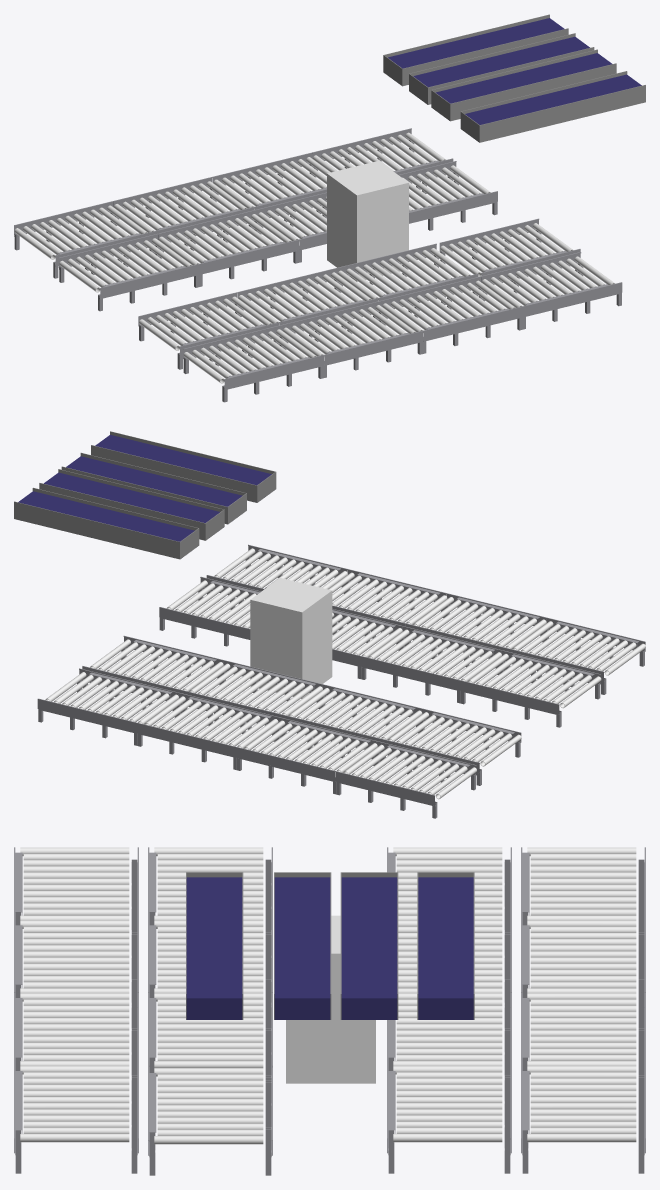
The model's file is cell_layout.glb.
The picture shows the model from 3 angles, top to bottom: view 1: azimuth 30°, elevation 25°; view 2: azimuth 150°, elevation 25°; view 3: azimuth 270°, elevation 25°; orthographic projection. The views are drawn at different scales.
Parts seen in each view (by area): view 1: Esteira1 (×4), Y-Bearing Cover (×14), Y-Bearing Cover004 (×7), Pedestal, ChapaFrontal.003 (×4), ChapaFrontal.001 (×4); view 2: Esteira1 (×4), Y-Bearing Cover (×7), Pedestal, ChapaFrontal.001 (×4), ChapaFrontal.003 (×4); view 3: Esteira1 (×4), New Roller (×12), New Roller008 (×12), New Roller 056 (×12), New Roller 040 (×12), New Roller 008 (×12), New Roller 048 (×12), New Roller 016 (×12), New Roller 064 (×12), New Roller 2 (×12), New Roller 072 (×12), New Roller 032 (×12) (+3 smaller).
Part boxes in pixels (box(x1,y1,x2,y2)): Esteira1 (×4): box(388, 18, 641, 124); Y-Bearing Cover (×14): box(14, 128, 581, 358); Y-Bearing Cover004 (×7): box(99, 191, 622, 390); Pedestal: box(327, 161, 408, 281); ChapaFrontal.003 (×4): box(402, 28, 645, 142); ChapaFrontal.001 (×4): box(383, 14, 627, 128); Esteira1 (×4): box(18, 434, 271, 541); Y-Bearing Cover (×7): box(37, 607, 559, 806); Pedestal: box(250, 578, 332, 698); ChapaFrontal.001 (×4): box(14, 445, 257, 559); ChapaFrontal.003 (×4): box(32, 431, 276, 545); Esteira1 (×4): box(186, 877, 473, 1019); New Roller (×12): box(20, 847, 636, 1076); New Roller008 (×12): box(20, 915, 636, 1144); New Roller 056 (×12): box(23, 897, 636, 1123); New Roller 040 (×12): box(23, 884, 636, 1111); New Roller 008 (×12): box(23, 860, 636, 1086); New Roller 048 (×12): box(23, 891, 636, 1117); New Roller 016 (×12): box(23, 866, 636, 1092); New Roller 064 (×12): box(23, 903, 636, 1129); New Roller 2 (×12): box(23, 854, 636, 1080); New Roller 072 (×12): box(23, 909, 636, 1135); New Roller 032 (×12): box(23, 878, 636, 1104).
Size of what is drawn, in the model's own units: 8.71 by 2.75 by 6.61.
